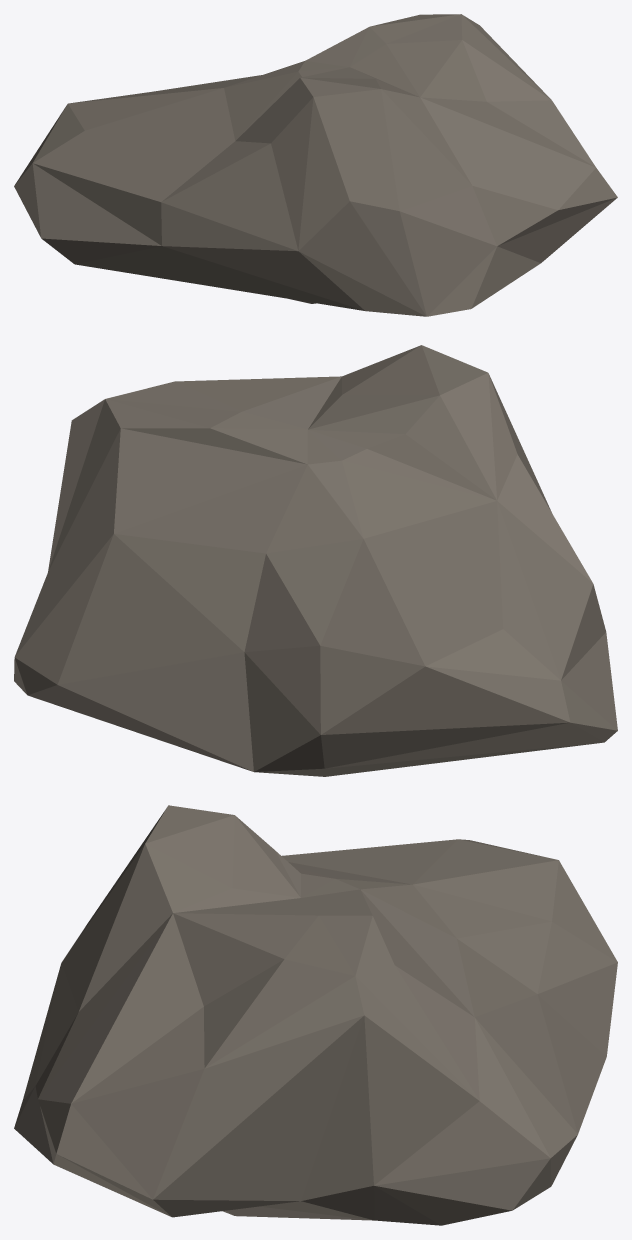
The model's file is SM_Env_Rock_01.fbx.
The picture shows the model from 3 angles, top to bottom: view 1: azimuth 30°, elevation 25°; view 2: azimuth 150°, elevation 25°; view 3: azimuth 270°, elevation 25°; orthographic projection. The views are drawn at different scales.
Visible parts, largest first — view 1: SM_Env_Rock_01; view 2: SM_Env_Rock_01; view 3: SM_Env_Rock_01.
Boxes of the visible parts, x1,y1,x2,y2 form: SM_Env_Rock_01: [14, 14, 617, 316]; SM_Env_Rock_01: [14, 345, 617, 776]; SM_Env_Rock_01: [14, 805, 617, 1225].
Bounding box in the file's own units: 2.2 × 1.05 × 1.83.
